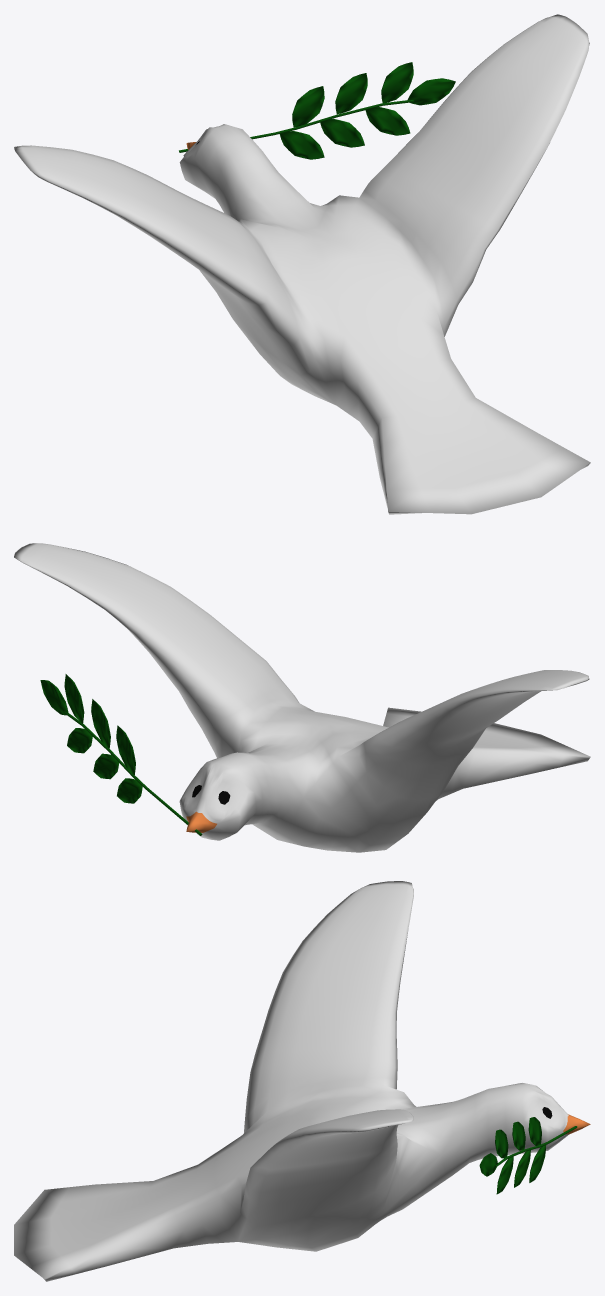
The model's file is asset.glb.
The picture shows the model from 3 angles, top to bottom: view 1: azimuth 30°, elevation 25°; view 2: azimuth 150°, elevation 25°; view 3: azimuth 270°, elevation 25°; orthographic projection. The views are drawn at different scales.
Visible parts, largest first — view 1: Sphere_3, galho_2; view 2: Sphere_3, galho_2; view 3: Sphere_3, galho_2.
Part boxes in pixels (x1,y1,x2,y2): Sphere_3: [14, 14, 590, 514]; galho_2: [179, 62, 455, 159]; Sphere_3: [14, 543, 590, 852]; galho_2: [40, 674, 202, 835]; Sphere_3: [14, 881, 590, 1281]; galho_2: [479, 1117, 577, 1194].
Bounding box in the file's own units: 4.51 × 2.07 × 4.48.
